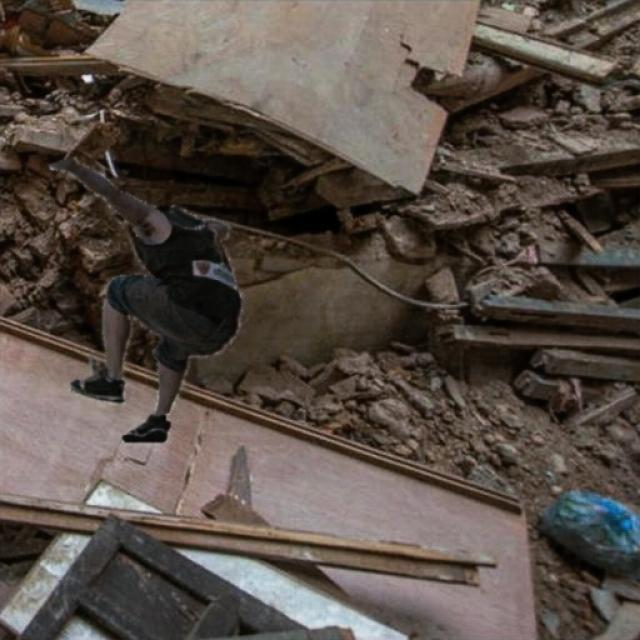Person in Rubble: (48, 158, 242, 442)
